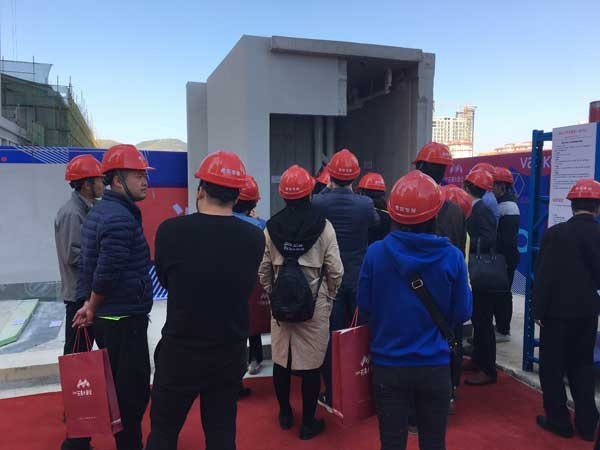red: (190, 148, 244, 213), (390, 170, 442, 235), (99, 142, 149, 199), (62, 152, 106, 198), (564, 177, 600, 219), (326, 146, 360, 188), (414, 139, 452, 176), (279, 165, 313, 205), (234, 172, 261, 214), (357, 171, 386, 201), (461, 170, 490, 200), (492, 167, 513, 197)
